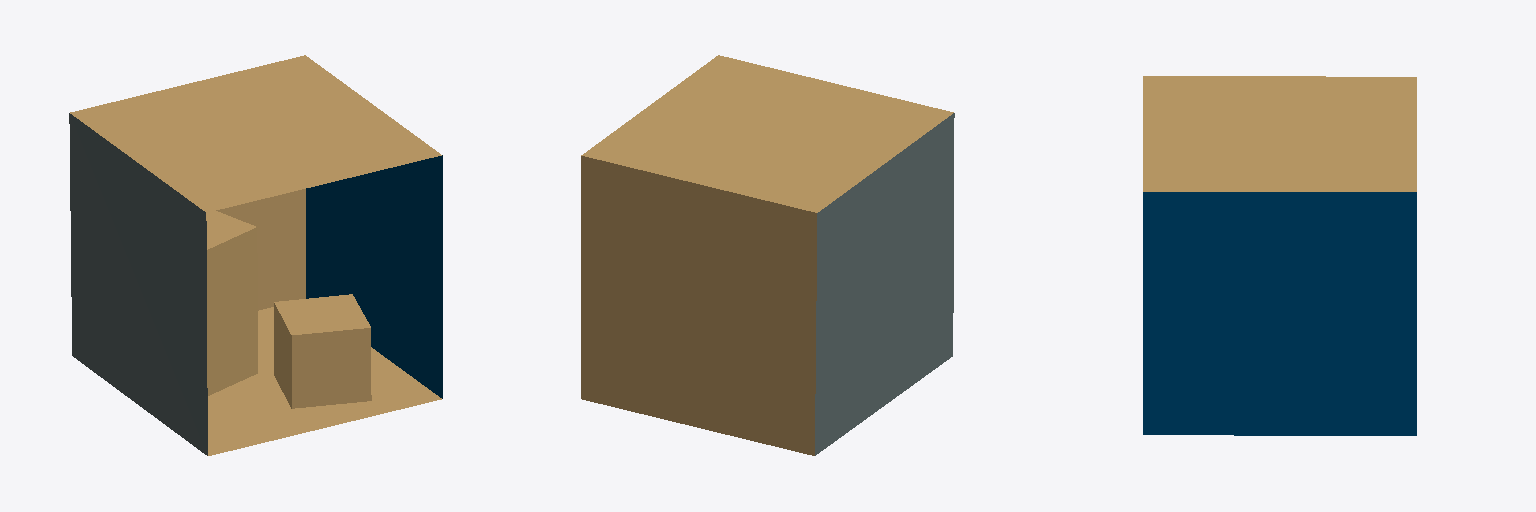
File: cornell-box.obj
3 renders of one model, left to right at view 1: azimuth 30°, elevation 25°; view 2: azimuth 150°, elevation 25°; view 3: azimuth 270°, elevation 25°, orthographic.
Parts seen in each view (by area): view 1: left_wall, ceiling, right_wall, floor, short_box, tall_box, back_wall; view 2: back_wall, left_wall, ceiling; view 3: right_wall, ceiling.
Boxes of the visible parts, <box> form: left_wall: <box>69,113,207,455</box>; ceiling: <box>70,55,441,212</box>; right_wall: <box>306,155,442,398</box>; floor: <box>208,307,441,455</box>; short_box: <box>274,294,371,408</box>; tall_box: <box>206,211,257,395</box>; back_wall: <box>216,189,305,310</box>; back_wall: <box>581,156,816,455</box>; left_wall: <box>815,113,954,455</box>; ceiling: <box>581,55,953,212</box>; right_wall: <box>1143,192,1416,435</box>; ceiling: <box>1143,76,1416,191</box>.
Size of the model in its own units: 5.56 by 5.49 by 5.6.